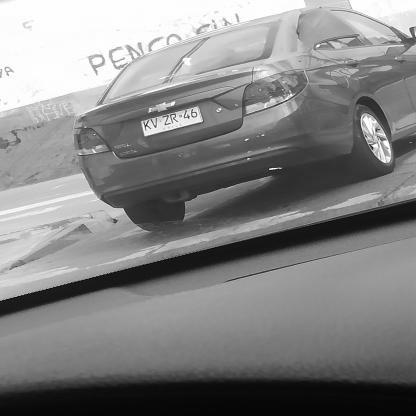Patente: (138, 105, 207, 139)
